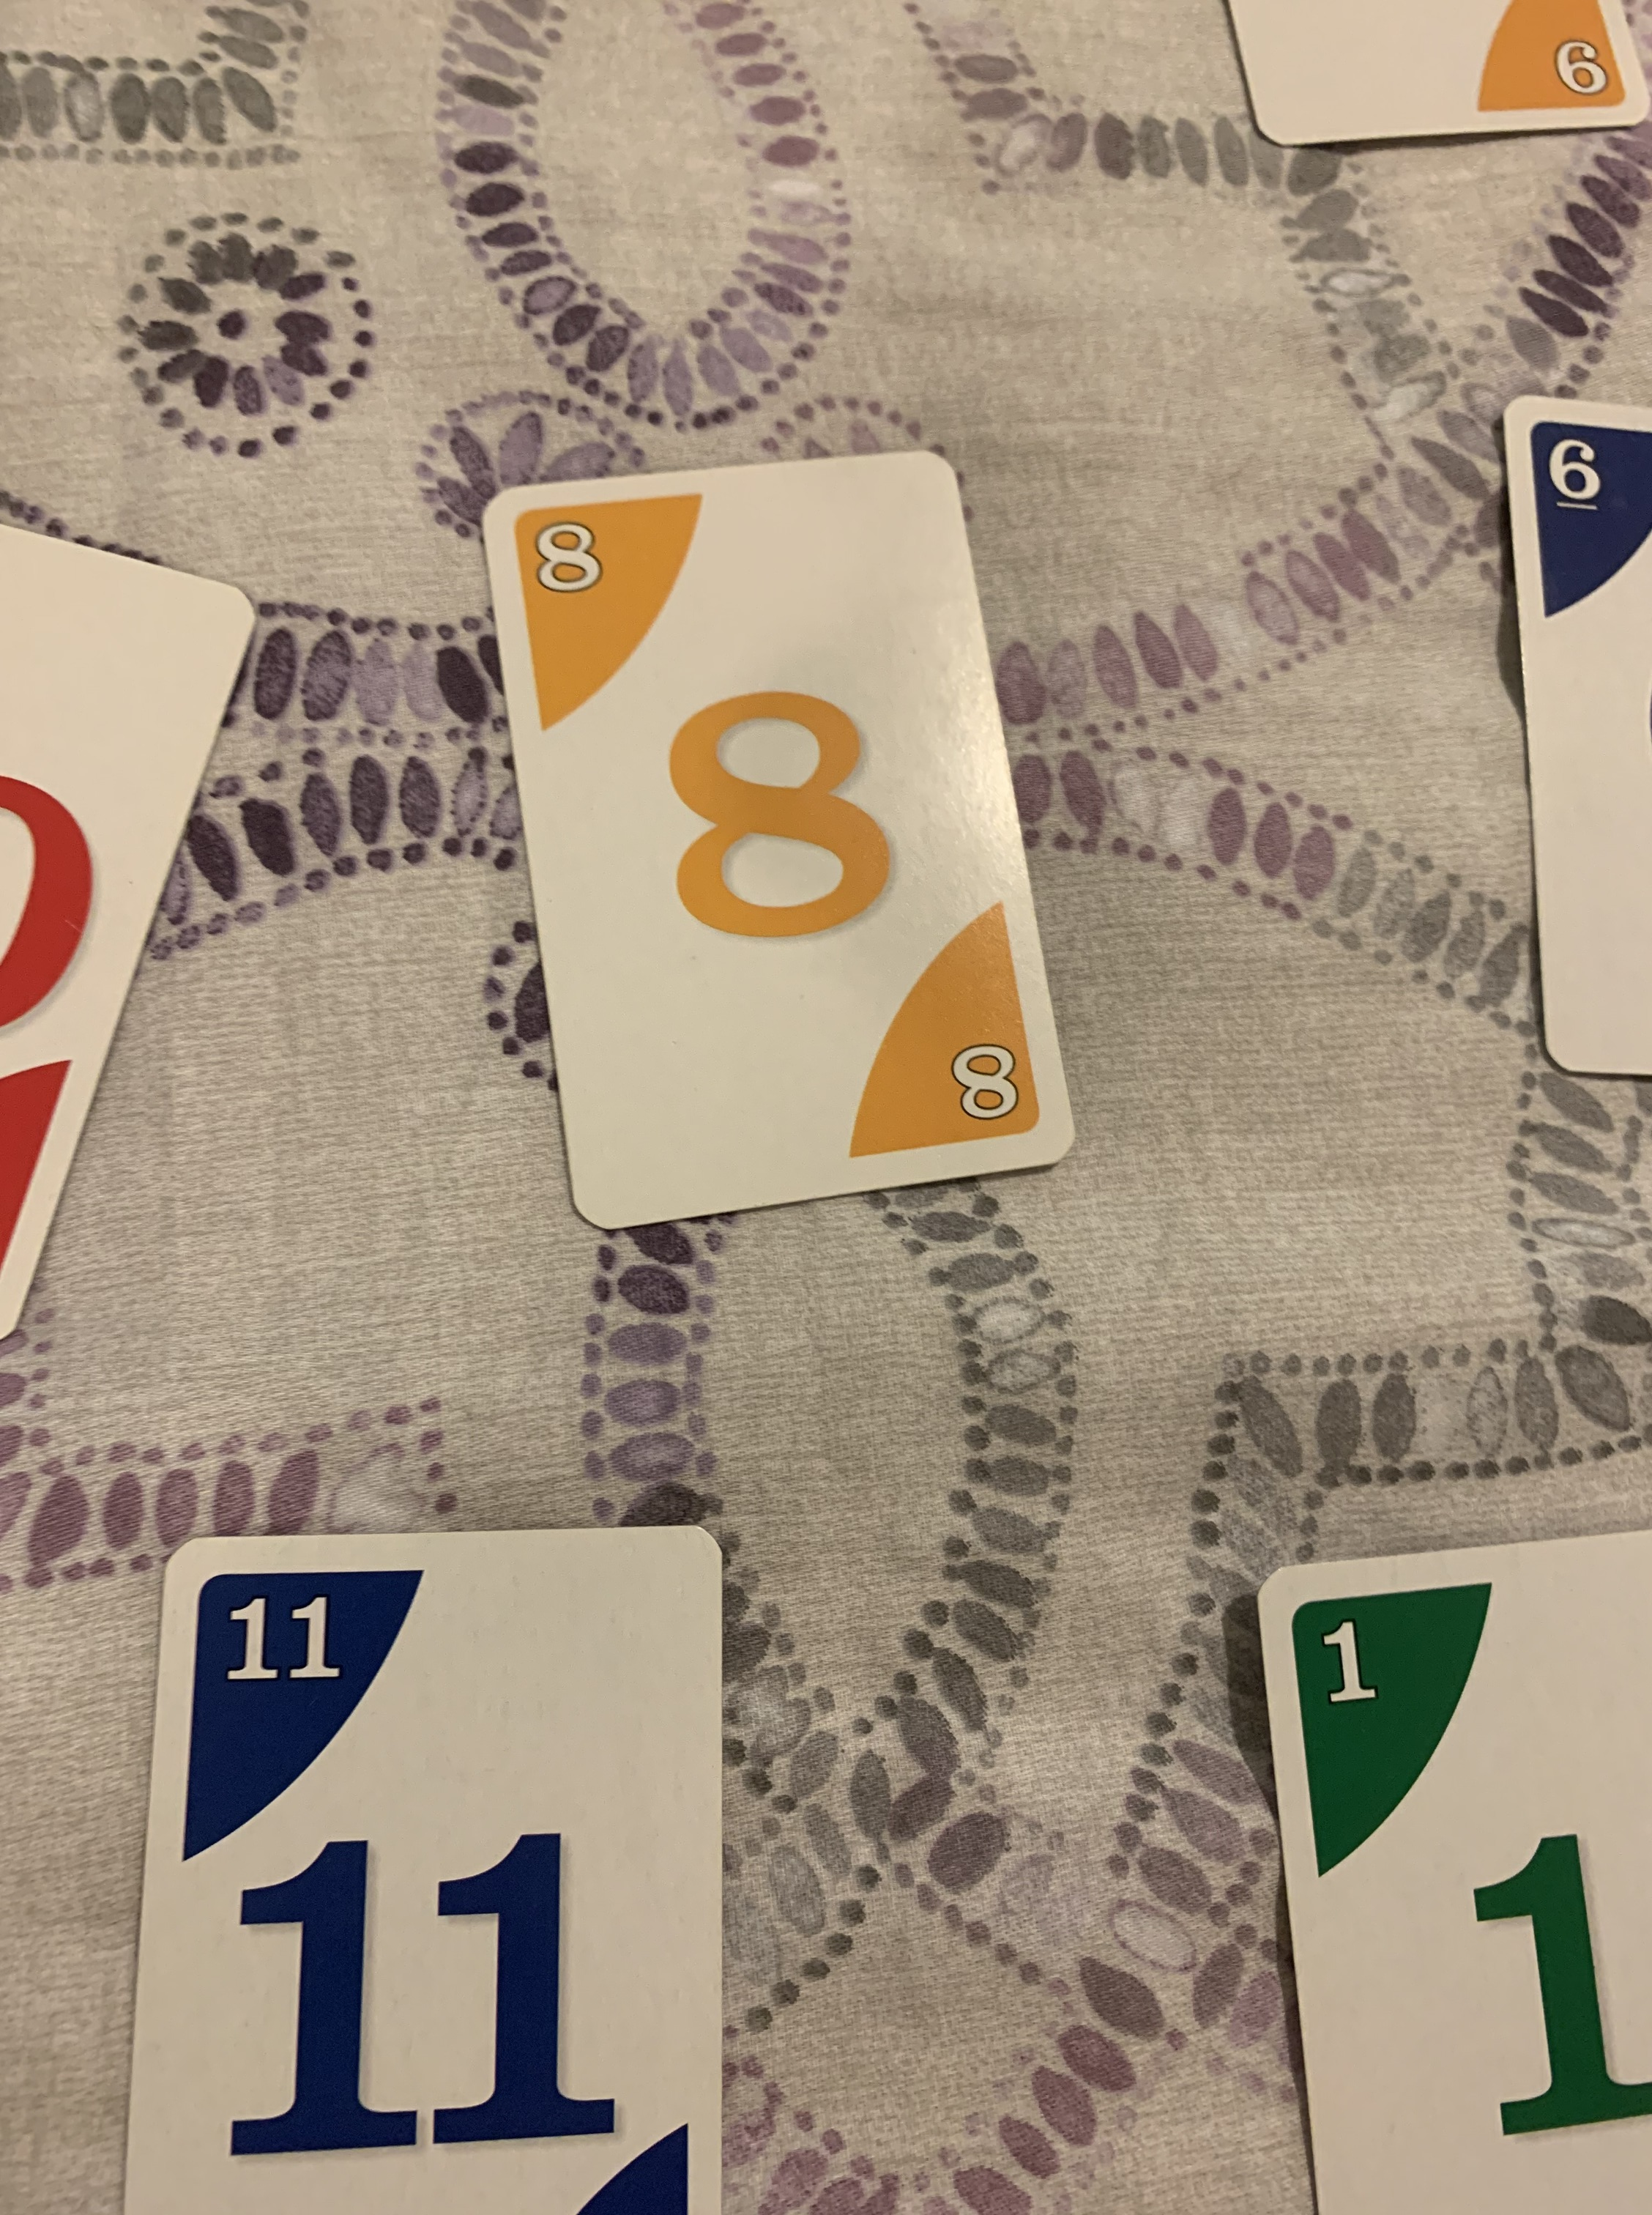eight: (465, 439, 1086, 1246)
eleven: (118, 1522, 727, 2215)
one: (1237, 1517, 1652, 2215)
